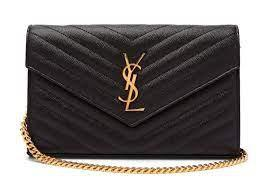YVES-SAINT-LAURENT: (118, 53, 145, 111)
